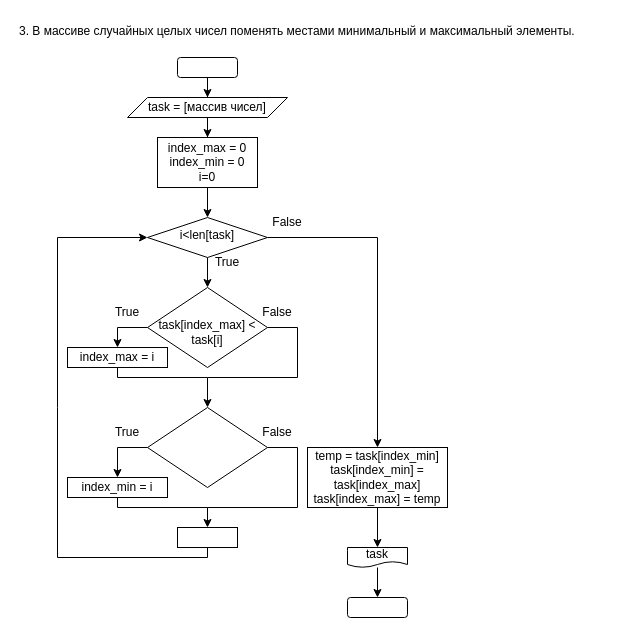
Some shapes in this 644 by 635 pixel diagram are drawn without their labels. Each missing label, with the centre of its shape:
"i+=1" belongs at point 207,537.
"task[index_min] > task[i]" belongs at point 207,447.
"Конец" belongs at point 377,607.
"Начало" belongs at point 207,67.
